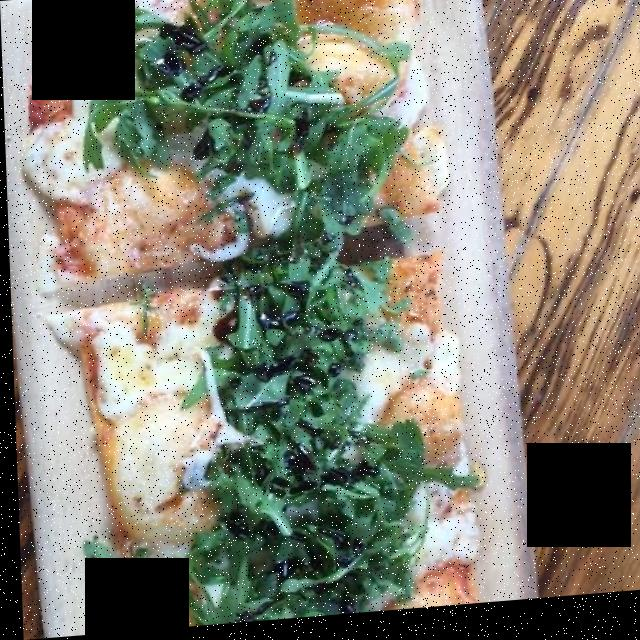focaccia: (16, 0, 474, 624)
salad-rocket: (71, 0, 466, 624)
